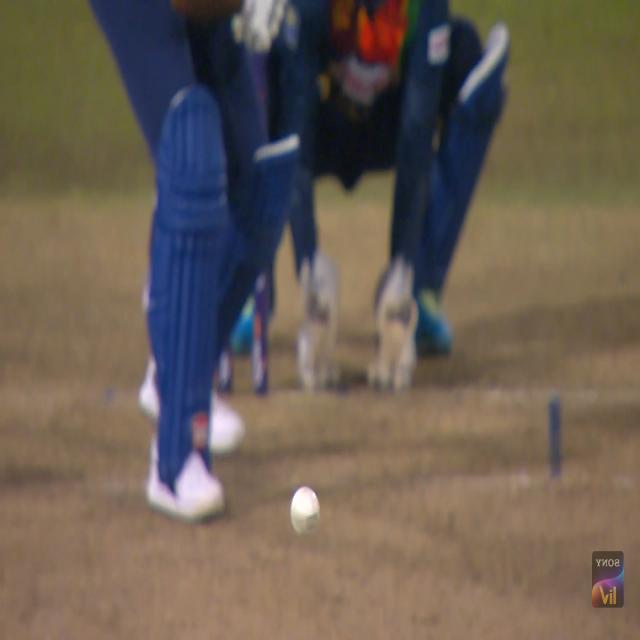ball: (290, 485, 319, 539)
